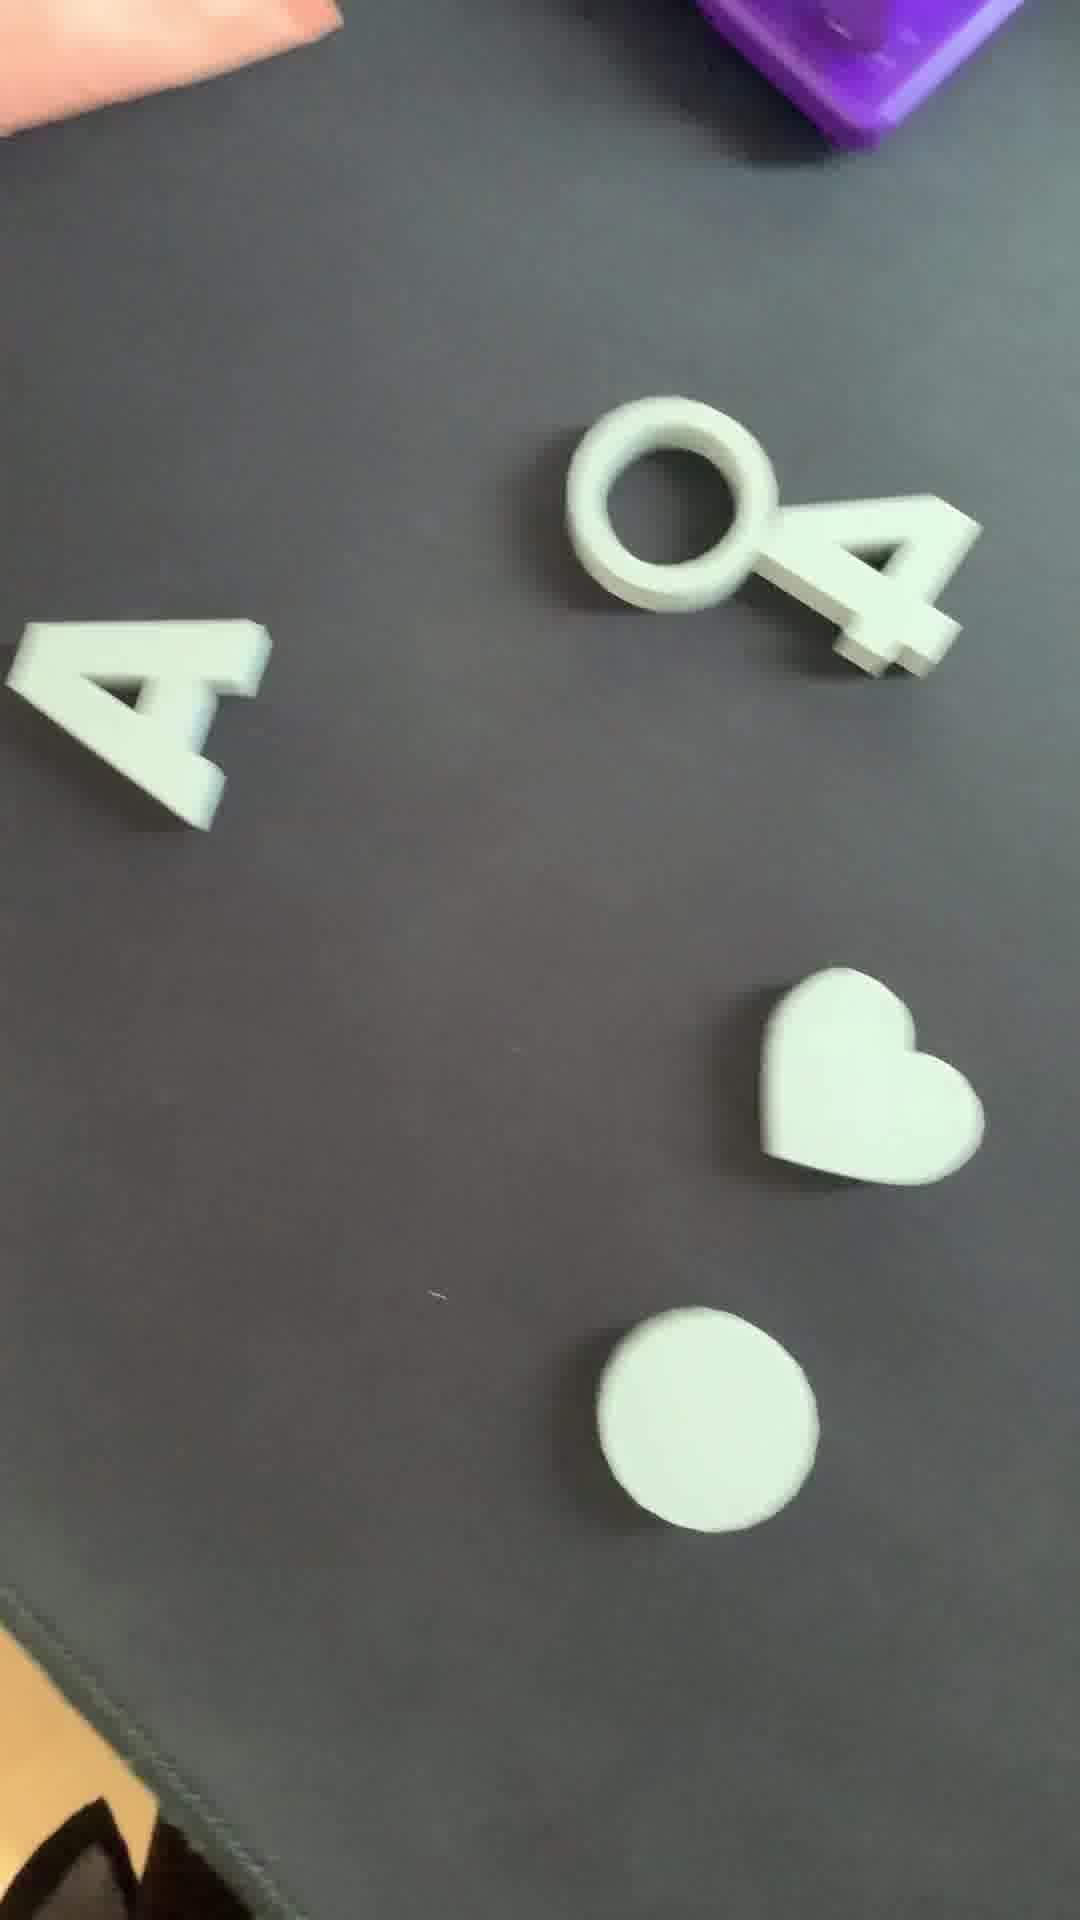Gray A-letter: (1, 612, 295, 836)
Gray circle: (585, 1304, 814, 1549)
Gray four: (767, 477, 990, 699)
Gray heart: (737, 965, 986, 1193)
Gray ring: (574, 393, 785, 615)
